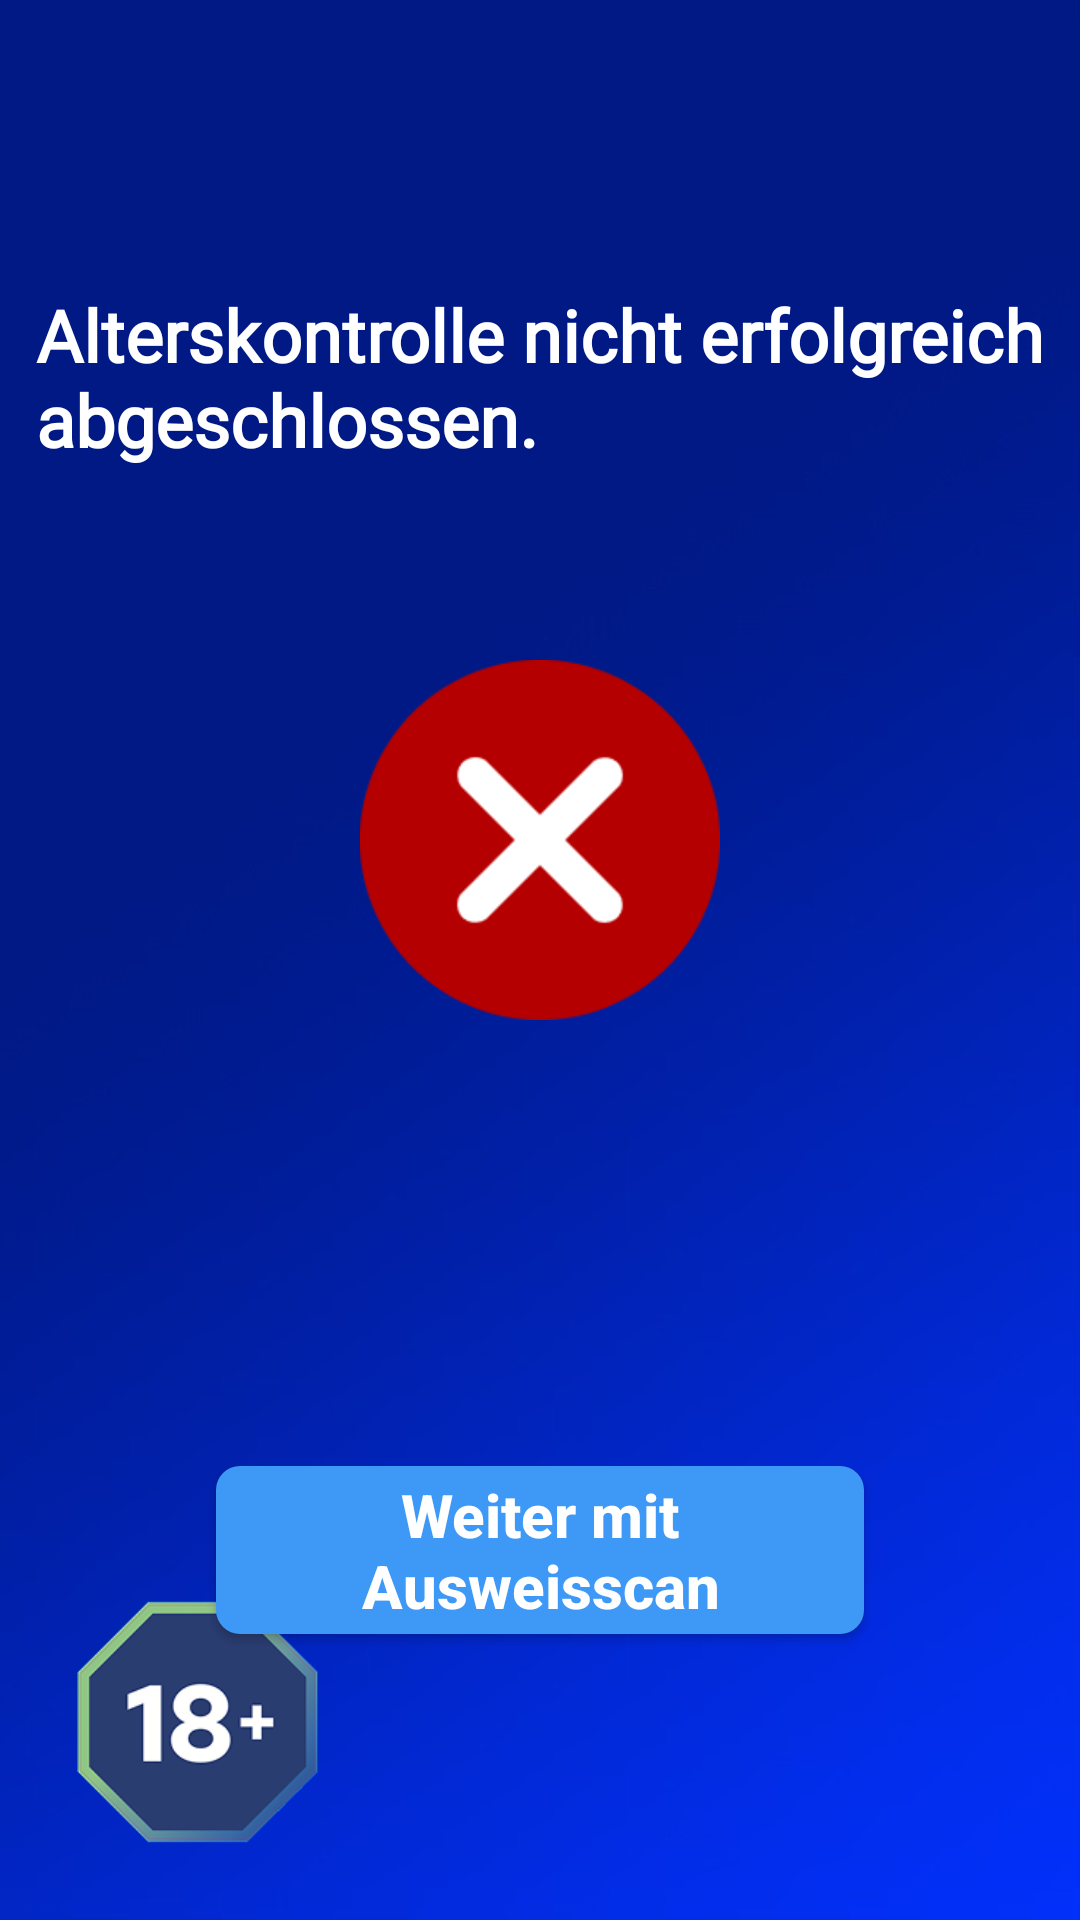

Icons on this 1080*1920 Android screen, each with its box as (x1=x1, y1=y1, x2=x2, y2=y2):
estimation failure: (x1=360, y1=660, x2=720, y2=1020)
